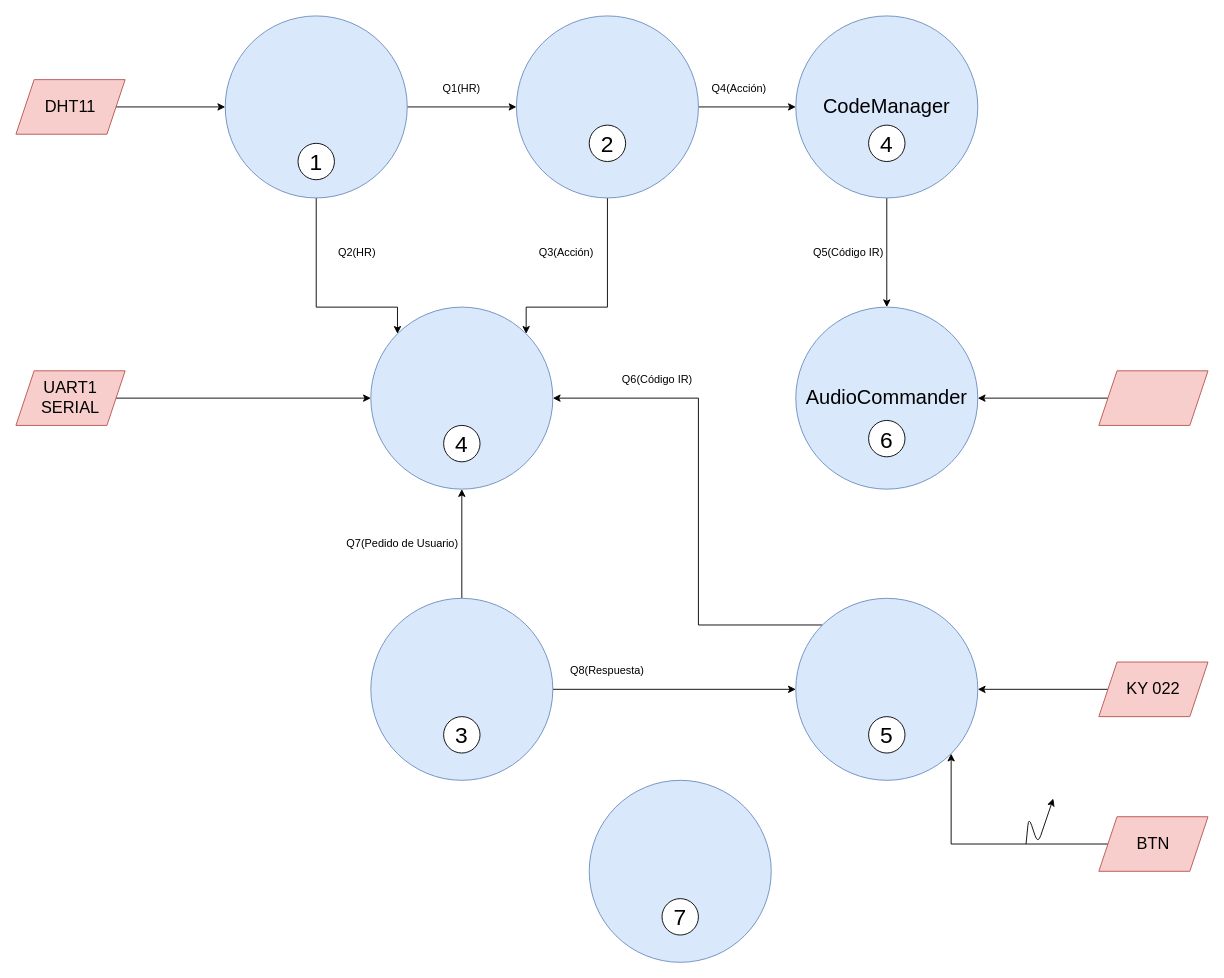
This 1224x978 diagram has some shape labels left out. The box of each missing label's shape, as (x1, y1, x2, y2) in pixels:
Communicator: (370, 306, 553, 489)
FlashSaver: (588, 779, 771, 962)
HR periodica 5 seg.: (224, 15, 407, 198)
HRManager: (516, 15, 698, 198)
KY 005: (1098, 370, 1208, 425)
NewCodeSaver: (795, 597, 978, 780)
Receiver: (370, 597, 553, 780)
